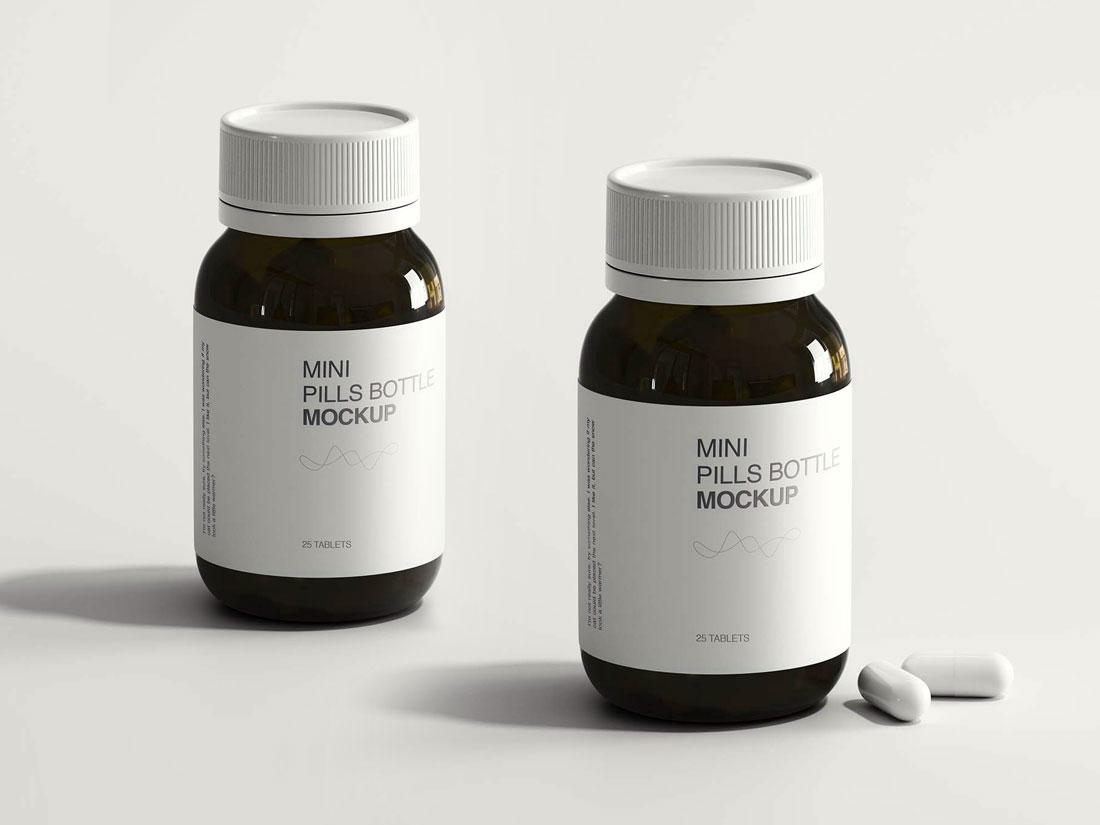jar: (576, 158, 854, 723), (191, 101, 447, 620)
